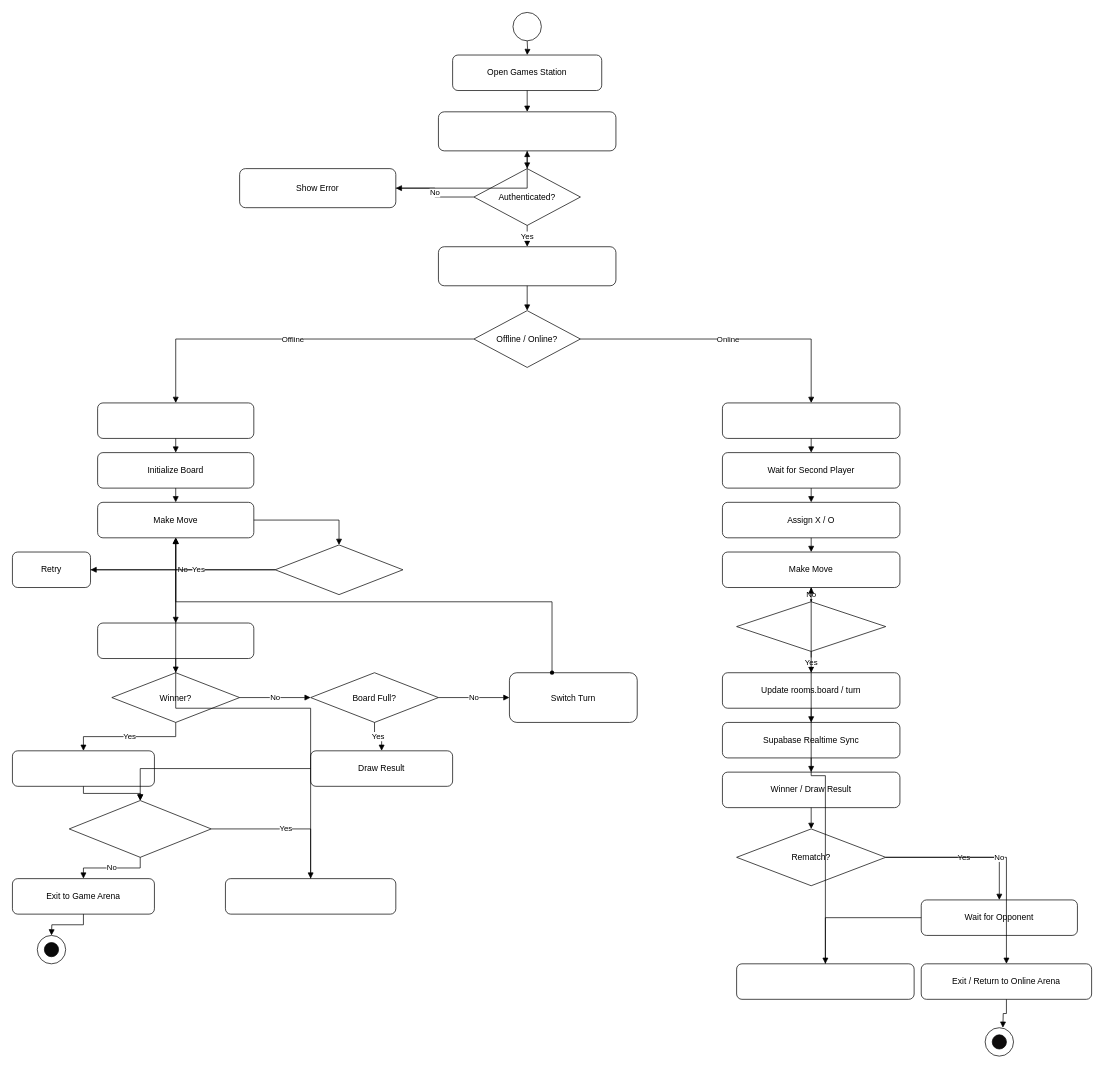
This 1104x1069 diagram has some shape labels left out. Each missing label, with the box of its shape:
Create Room / Join Room: (722, 402, 900, 438)
Game Arena: (438, 246, 616, 286)
Login / Sign Up Supabase Auth: (438, 111, 616, 151)
Rematch / Restart?: (69, 800, 211, 857)
Reset Board / Start New Round: (225, 878, 396, 914)
Reset Board / Turn / Winner: (736, 963, 914, 999)
Start Offline Game: (97, 402, 254, 438)
Update Board: (97, 622, 254, 659)
Valid Move?: (274, 544, 403, 595)
Valid Turn?: (736, 601, 886, 651)
Winner Result: (12, 750, 154, 786)
